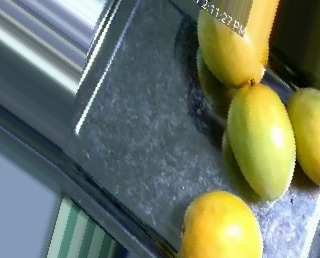Mango: (222, 79, 299, 200), (187, 6, 269, 90), (176, 190, 267, 258), (282, 84, 320, 187)
